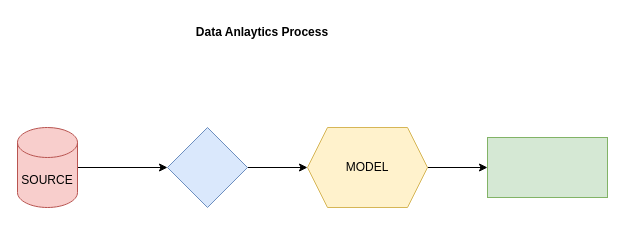
Some shapes in this 625 by 225 pixel diagram are drawn without their labels. The shapes that lost their labels are listed below. From the top down, each one's centre as x and y in pixels, then its label:
At pixel 207 167: "ETL".
At pixel 547 167: "BI/ML".
